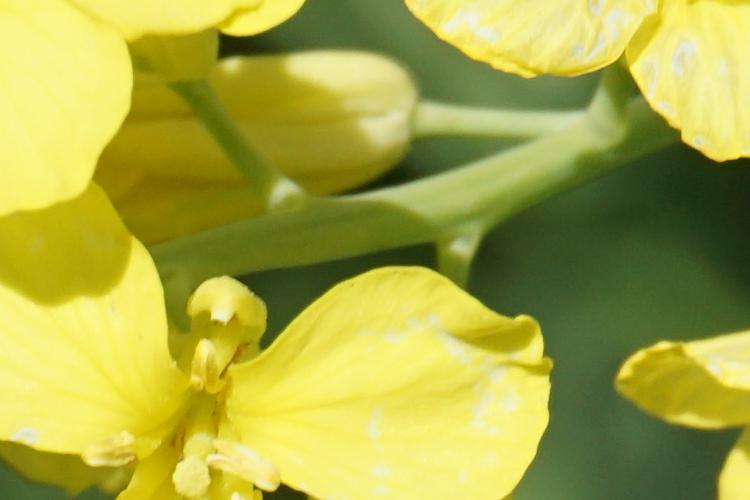yellow: (6, 184, 561, 498), (435, 7, 745, 162)
